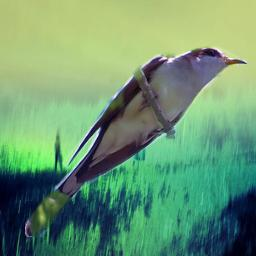Cuckoo: (25, 46, 247, 237)
